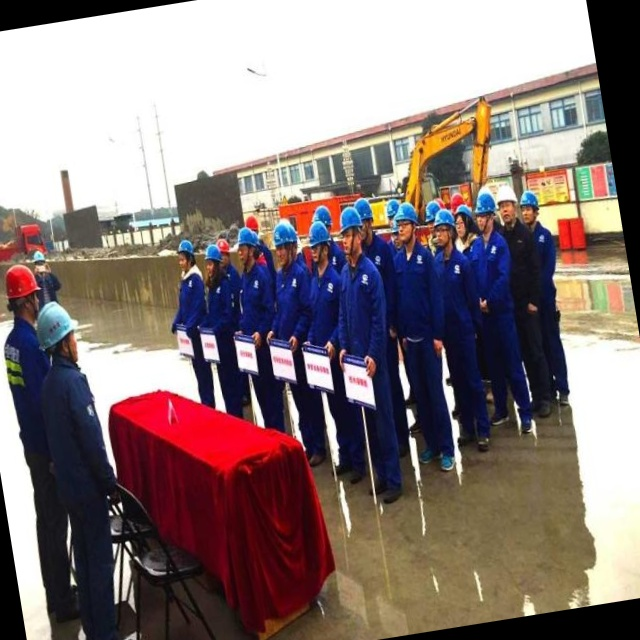Con_Casco: (2, 262, 43, 320), (337, 206, 367, 257), (175, 238, 196, 268)
